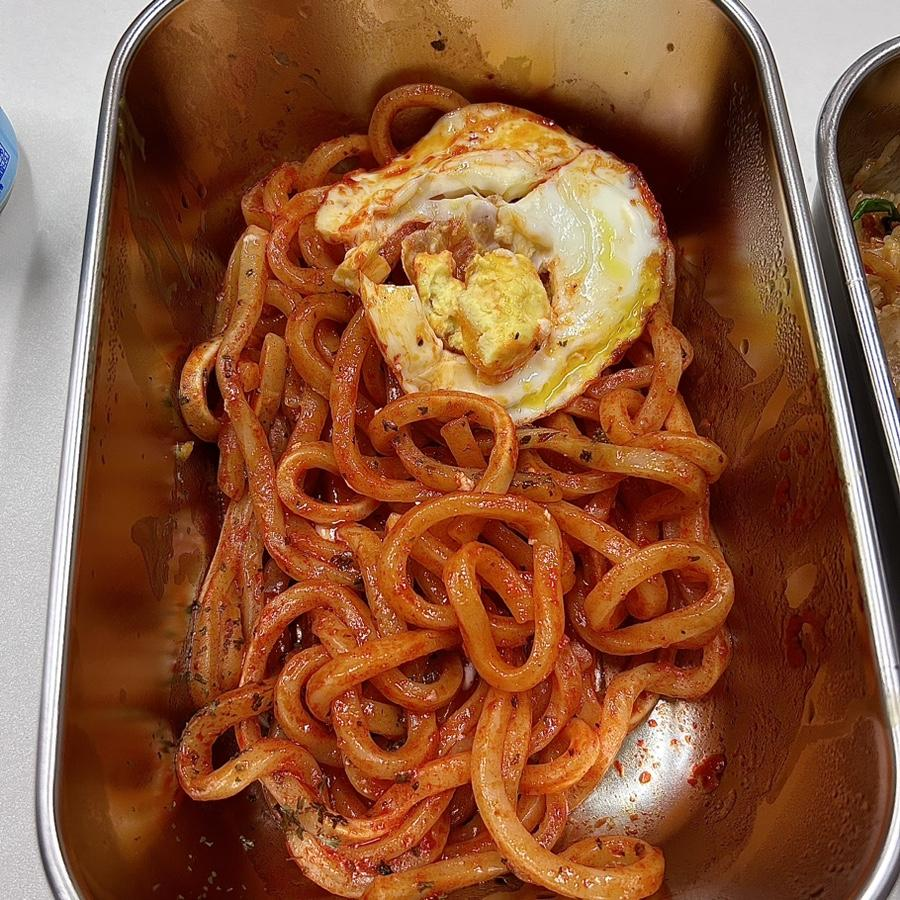Lunch Box: (38, 0, 899, 899), (813, 37, 899, 641)
